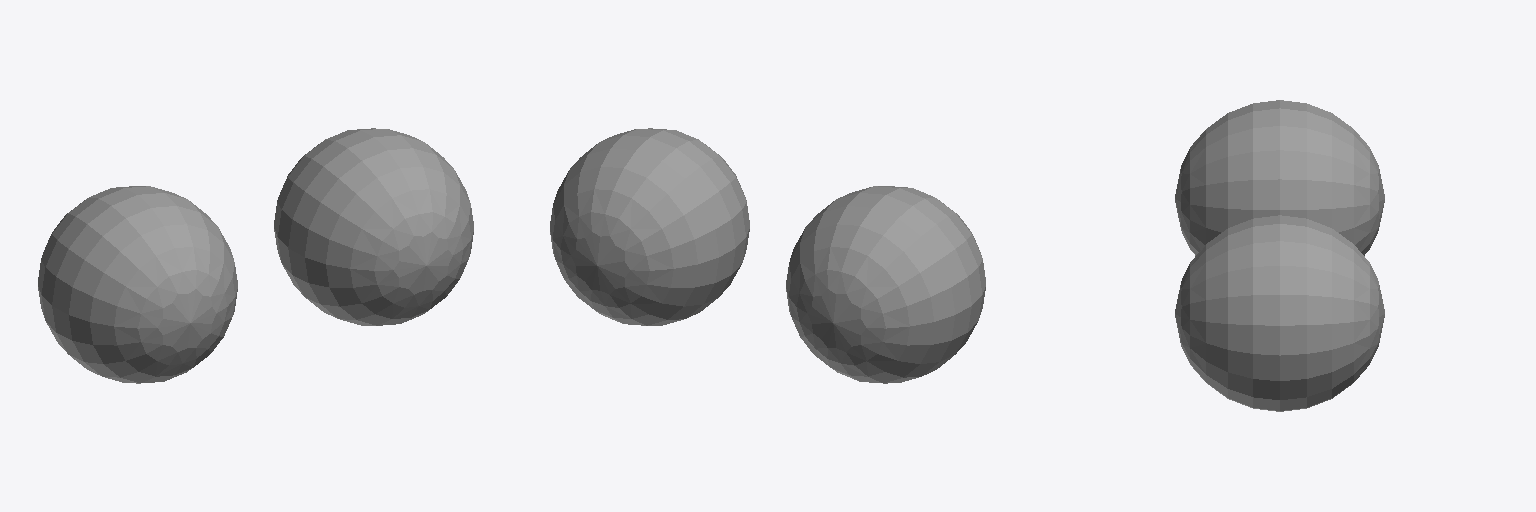
Rendered from Character_blob_withBlends_eyes.obj.
3 renders of one model, left to right at view 1: azimuth 30°, elevation 25°; view 2: azimuth 150°, elevation 25°; view 3: azimuth 270°, elevation 25°, orthographic.
Parts seen in each view (by area): view 1: Eye.R_Sphere.001; view 2: Eye.R_Sphere.001; view 3: Eye.R_Sphere.001.
Part boxes in pixels (left/top/right/bottom): Eye.R_Sphere.001: left=38, top=128, right=473, bottom=383; Eye.R_Sphere.001: left=550, top=128, right=985, bottom=383; Eye.R_Sphere.001: left=1175, top=100, right=1384, bottom=411.
Size of the model in its own units: 0.3291 by 0.1387 by 0.1474.